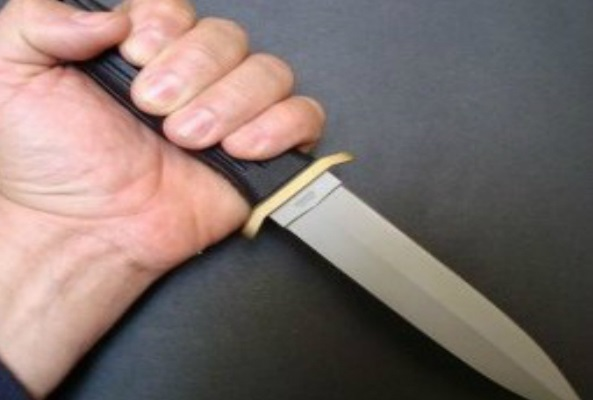knife: (145, 48, 593, 400)
